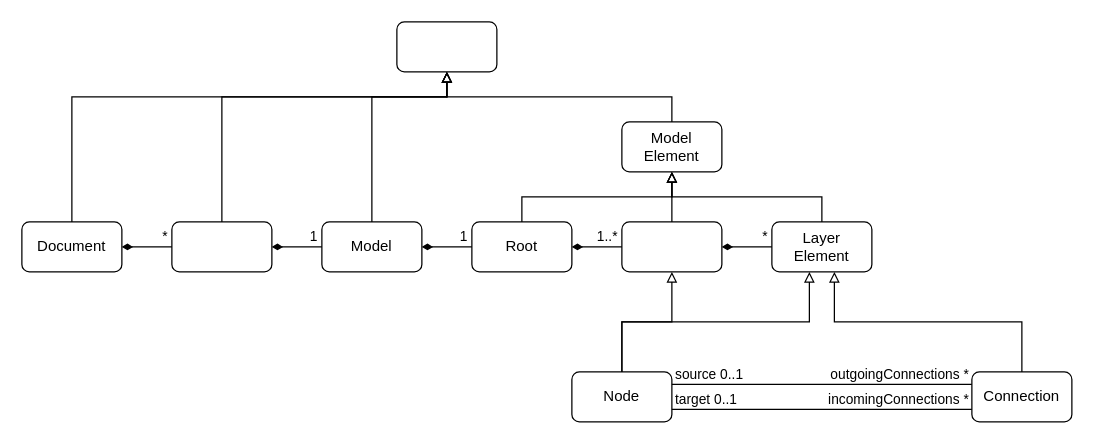
The diagram is 1094 pixels wide and 444 high, and some of its shapes have lost their labels. Each missing label, with the centre of its shape:
"Element" goes at pixel 446 46.
"Layer" goes at pixel 671 246.
"Page" goes at pixel 221 246.
